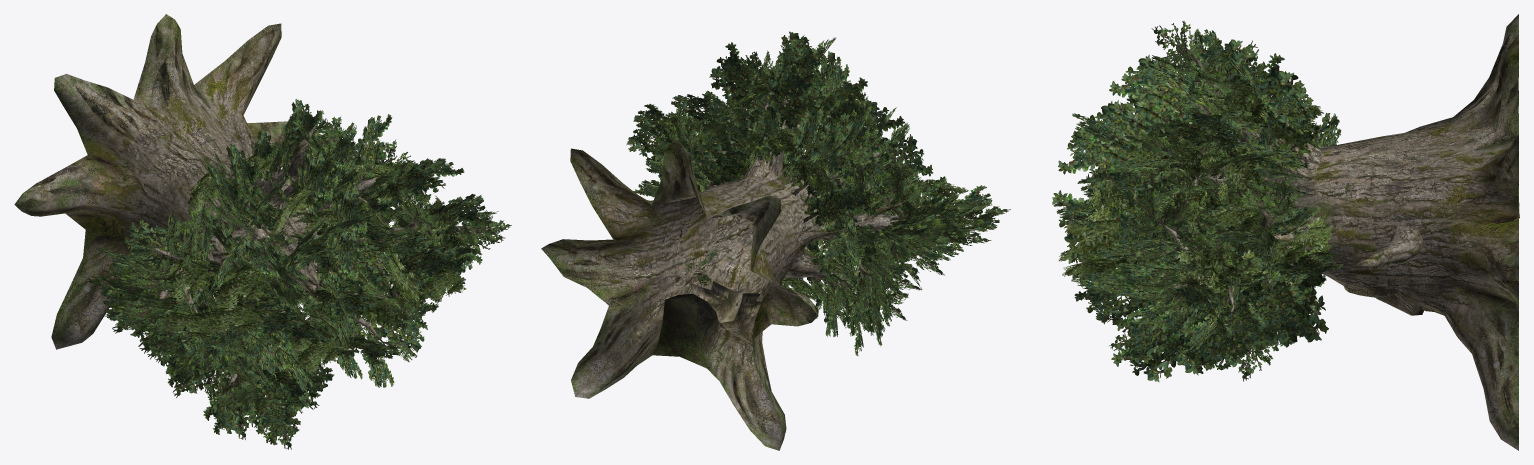
File: great deku.fbx
The picture shows the model from 3 angles, left to right: view 1: azimuth 30°, elevation 25°; view 2: azimuth 150°, elevation 25°; view 3: azimuth 270°, elevation 25°; orthographic projection. The views are drawn at different scales.
Parts seen in each view (by area): view 1: _; view 2: _; view 3: _.
Part boxes in pixels (x1,y1,x2,y2): _: [14, 14, 511, 449]; _: [541, 31, 1010, 450]; _: [1052, 14, 1519, 450].
Size of the model in its own units: 1409 by 1060 by 1199.
1 material, 1 textured.
